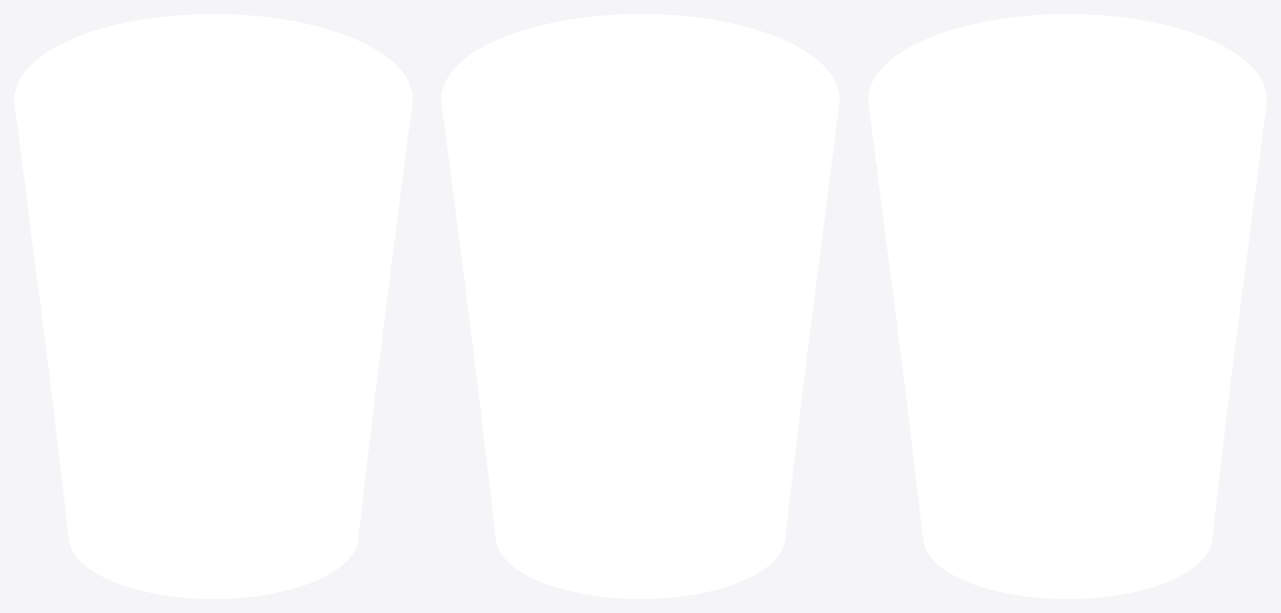
The model's file is glass_cup.glb.
3 renders of one model, left to right at view 1: azimuth 30°, elevation 25°; view 2: azimuth 150°, elevation 25°; view 3: azimuth 270°, elevation 25°, orthographic.
Bounding box in the file's own units: 1.55 × 1.9 × 1.55.
Materials: 1 (1 with a texture image).
